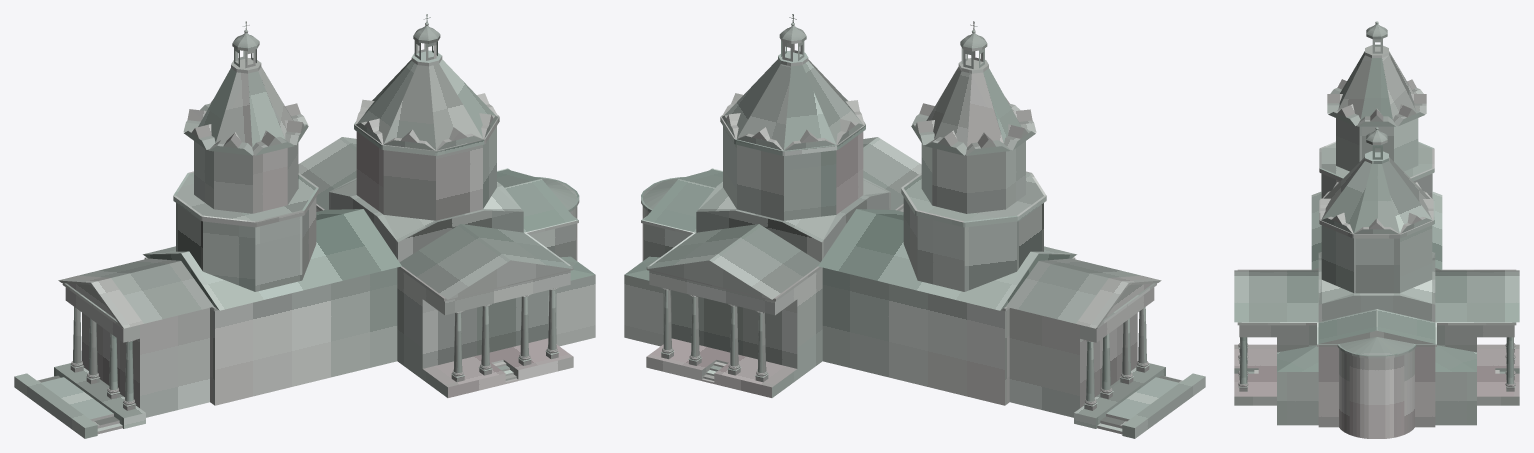
3 renders of one model, left to right at view 1: azimuth 30°, elevation 25°; view 2: azimuth 150°, elevation 25°; view 3: azimuth 270°, elevation 25°, orthographic. The views are drawn at different scales.
Parts seen in each view (by area): view 1: Untitled; view 2: Untitled; view 3: Untitled.
Part boxes in pixels (<box>): Untitled: <box>14,14,595,438</box>; Untitled: <box>624,14,1205,438</box>; Untitled: <box>1234,21,1519,438</box>.
Bounding box in the file's own units: 40.26 × 25.33 × 22.53.
1 material, 1 textured.
